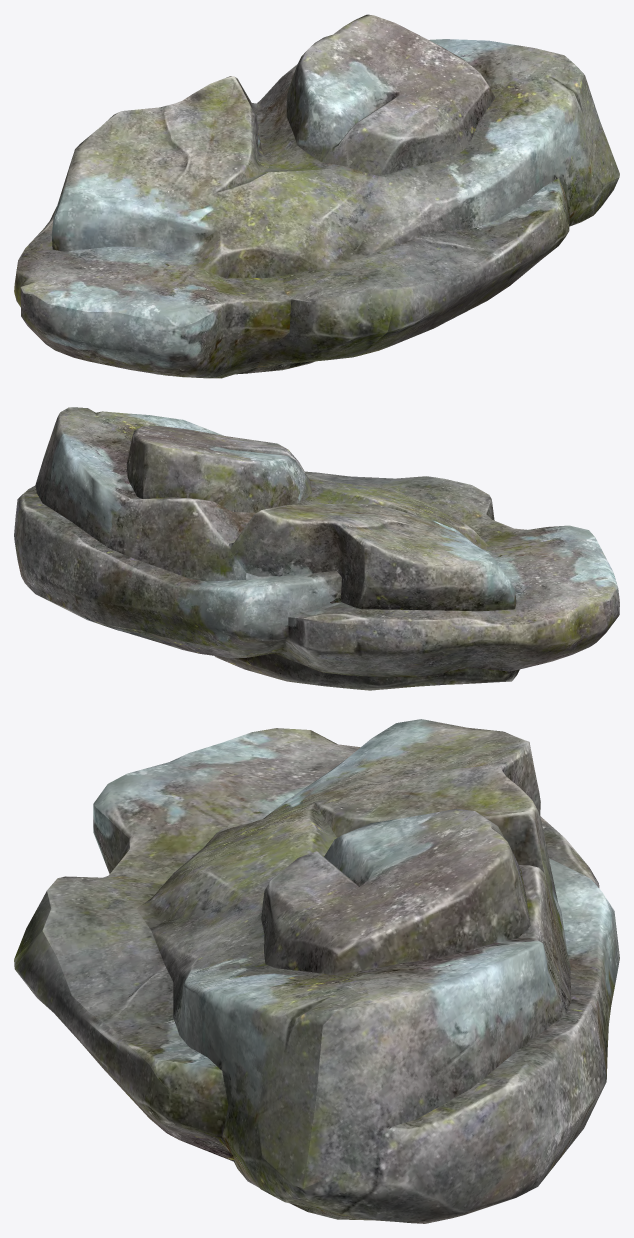
The picture shows the model from 3 angles, top to bottom: view 1: azimuth 30°, elevation 25°; view 2: azimuth 150°, elevation 25°; view 3: azimuth 270°, elevation 25°; orthographic projection. The views are drawn at different scales.
Visible parts, largest first — view 1: SM_Mining_Node_Large_Silver_01_LOD0; view 2: SM_Mining_Node_Large_Silver_01_LOD0; view 3: SM_Mining_Node_Large_Silver_01_LOD0.
Part boxes in pixels (x1,y1,x2,y2): SM_Mining_Node_Large_Silver_01_LOD0: (14,14,619,378); SM_Mining_Node_Large_Silver_01_LOD0: (14,407,619,690); SM_Mining_Node_Large_Silver_01_LOD0: (14,719,619,1223).
Bounding box in the file's own units: 5.52 × 2.18 × 3.38.
